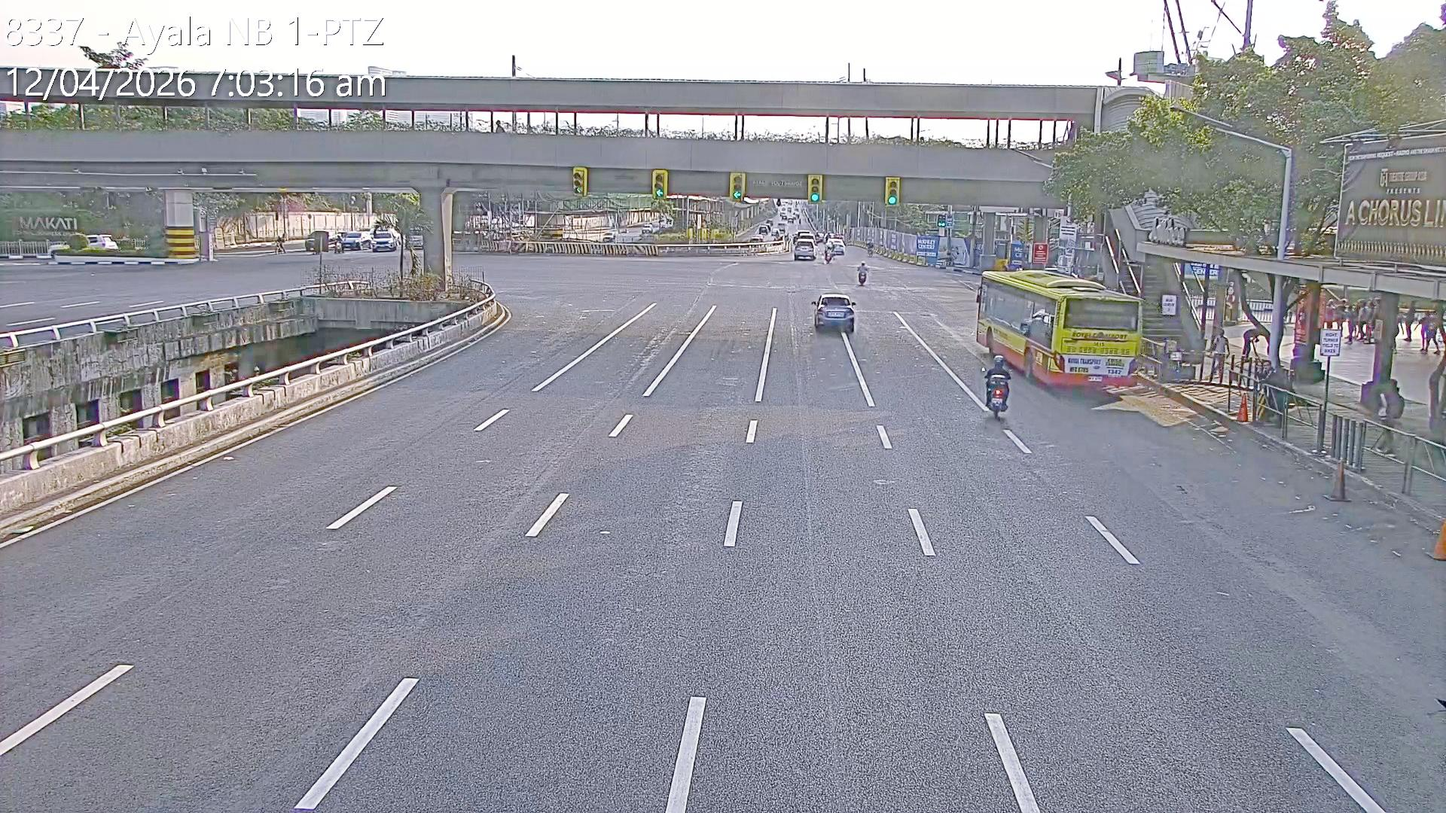Car: (812, 291, 856, 333), (362, 227, 401, 251), (339, 227, 372, 254), (308, 230, 340, 251)
Motor: (982, 369, 1010, 417), (332, 233, 348, 257), (853, 264, 864, 281), (856, 269, 867, 286), (825, 248, 835, 263)
